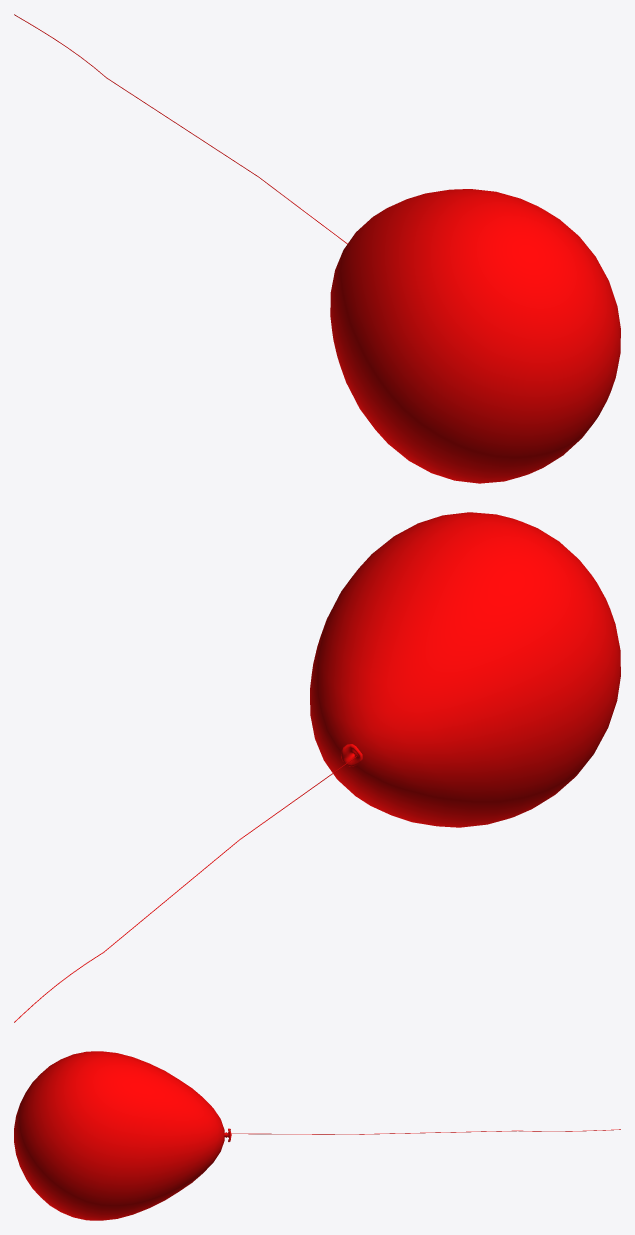
File: ballon.obj
3 renders of one model, top to bottom at view 1: azimuth 30°, elevation 25°; view 2: azimuth 150°, elevation 25°; view 3: azimuth 270°, elevation 25°, orthographic. The views are drawn at different scales.
Size of the model in its own units: 98.45 by 105 by 372.
